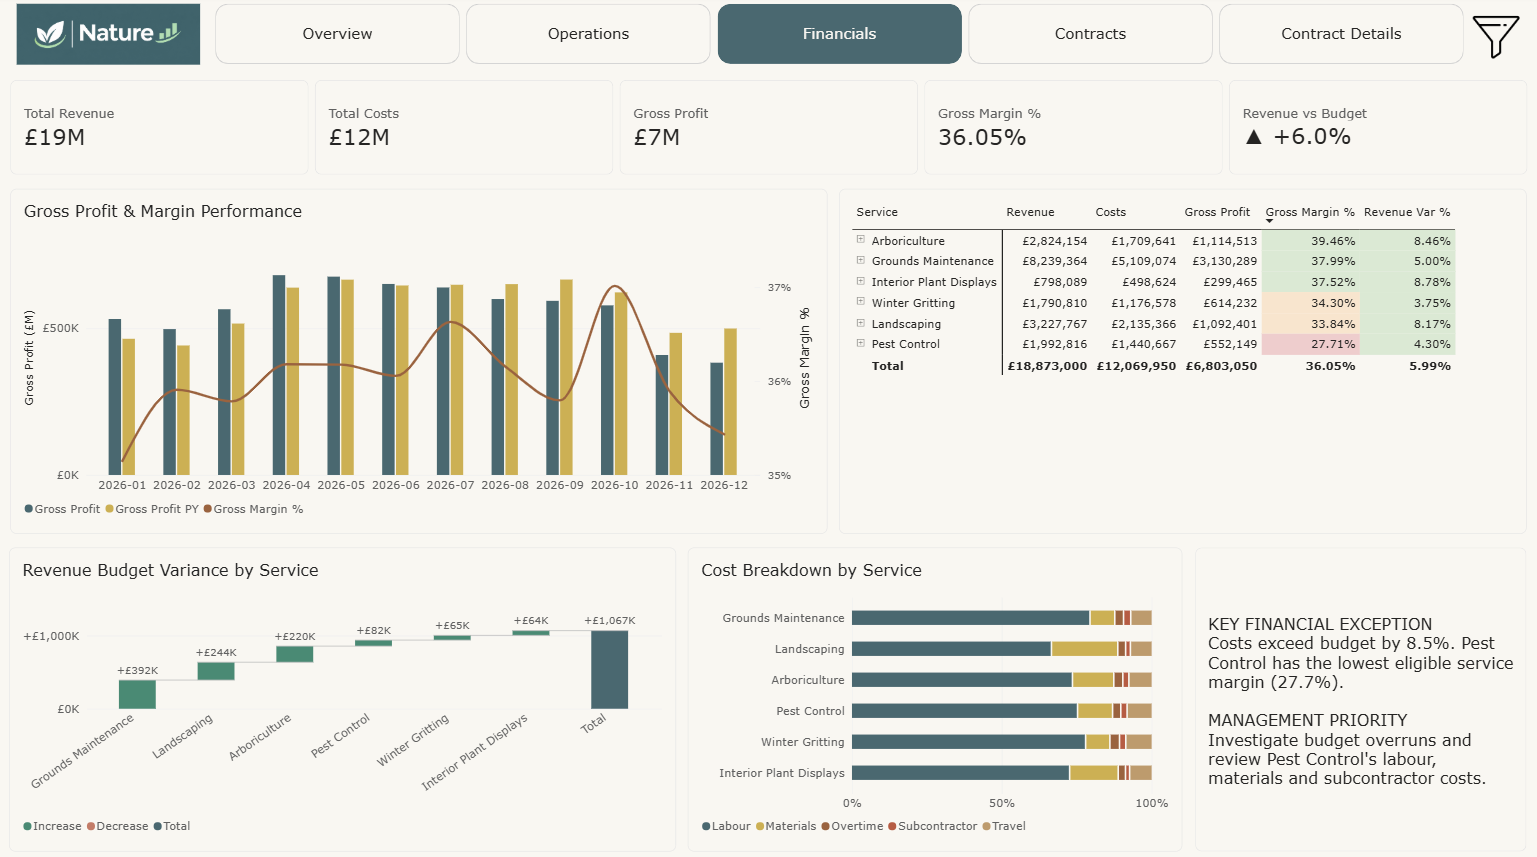

The dashboard page shown, as its layout file describes it:
{"tool":"powerbi","page":{"name":"Financials","canvas":[1920,1080],"ordinal":3},"visuals":[{"type":"cardVisual","fields":{"Data":["Financial measures.Total Revenue","Financial measures.Total Costs","Financial measures.Gross Profit","Financial measures.Gross Margin %","Financial measures.vs Budget Display"]},"box":[14.1,106.7,1894.2,118.8],"z":0},{"type":"pivotTable","fields":{"Rows":["dim_services.service_name","dim_regions.region_name"],"Values":["Financial measures.Total Revenue","Financial measures.Total Costs","Financial measures.Gross Profit","Financial measures.Gross Margin %","Financial measures.Revenue Variance %"]},"box":[1047.5,241,857.7,430.8],"z":1000},{"type":"lineClusteredColumnComboChart","title":"Gross Profit & Margin Performance","fields":{"Category":["Calendar.Year Month"],"Y":["Financial measures.Gross Profit","Financial measures.Gross Profit PY"],"Y2":["Financial measures.Gross Margin %"]},"box":[13.3,241,1019,430.8],"z":2000},{"type":"image","box":[1838.3,18.3,58.3,68.3],"z":3000},{"type":"pageNavigator","box":[269,11.6,1558.6,75.6],"z":4000},{"type":"waterfallChart","title":"Revenue Budget Variance by Service","fields":{"Category":["dim_services.service_name"],"Y":["Financial measures.Revenue Variance"]},"box":[12.9,689.4,831.7,378.9],"z":5000},{"type":"hundredPercentStackedBarChart","title":"Cost Breakdown by Service","fields":{"Category":["dim_services.service_name"],"Y":["01. Financial measures.Labour Cost","01. Financial measures.Materials Cost","01. Financial measures.Overtime Cost","01. Financial measures.Subcontractor Cost","01. Financial measures.Travel Cost"]},"box":[859.6,688.8,616.7,379.5],"z":6000},{"type":"cardVisual","title":"Financial Exceptions & Actions","fields":{"Data":["Dynamic measures.Financials Insight"]},"box":[1491.5,688.8,413.7,379.5],"z":7000},{"type":"image","box":[14,10.9,244.7,76.4],"z":9000}]}

Visuals, with their boxes in screenshot pixels (x1, y1, x2, y2), scaled from the page's 1920x1080 canvas onto the 1537x857 screenshot:
cardVisual - Financial measures.Total Revenue x Financial measures.Total Costs: 11/85/1528/179
pivotTable - dim_services.service_name x dim_regions.region_name: 839/191/1525/533
"Gross Profit & Margin Performance" lineClusteredColumnComboChart: 11/191/826/533
image: 1472/15/1518/69
pageNavigator: 215/9/1463/69
"Revenue Budget Variance by Service" waterfallChart: 10/547/676/848
"Cost Breakdown by Service" hundredPercentStackedBarChart: 688/547/1182/848
"Financial Exceptions & Actions" cardVisual: 1194/547/1525/848
image: 11/9/207/69
